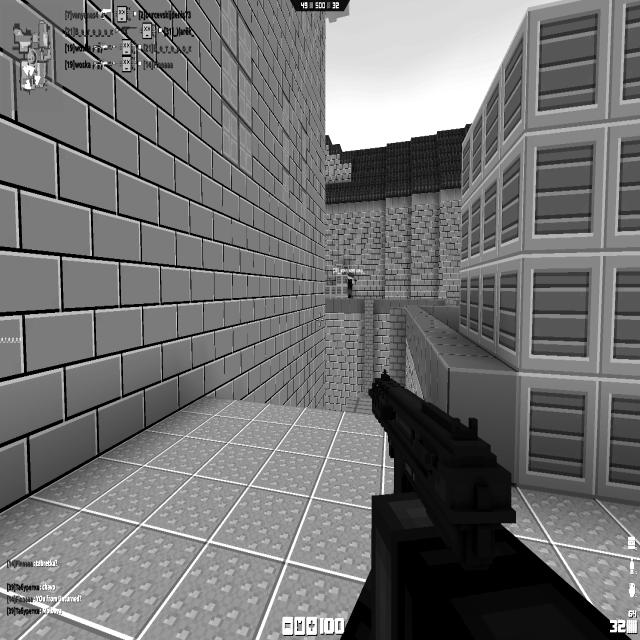Head: (348, 272, 353, 280)
Player: (346, 273, 355, 298)
